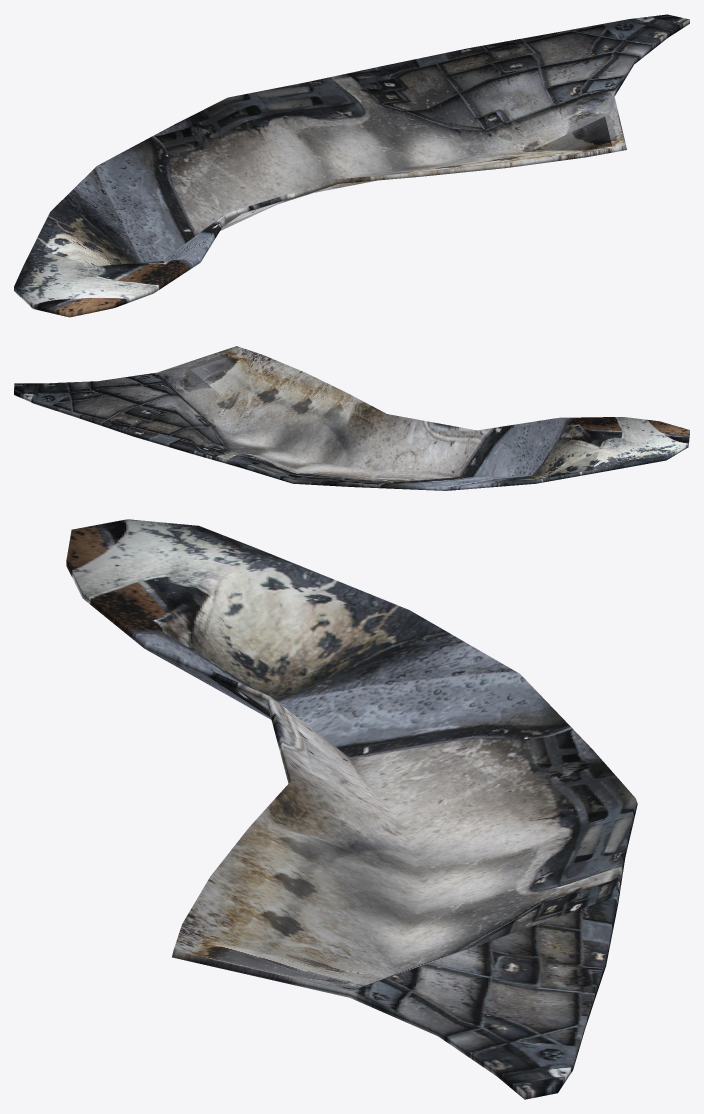
The model's file is rubbish6.obj.
3 renders of one model, top to bottom at view 1: azimuth 30°, elevation 25°; view 2: azimuth 150°, elevation 25°; view 3: azimuth 270°, elevation 25°, orthographic. The views are drawn at different scales.
Parts seen in each view (by area): view 1: def_surf_mat; view 2: def_surf_mat; view 3: def_surf_mat.
Boxes of the visible parts, x1=… form: def_surf_mat: x1=14, y1=14, x2=689, y2=317; def_surf_mat: x1=14, y1=346, x2=689, y2=490; def_surf_mat: x1=66, y1=519, x2=637, y2=1099.
Bounding box in the file's own units: 63.09 × 4.19 × 27.16.
1 material, 1 textured.
